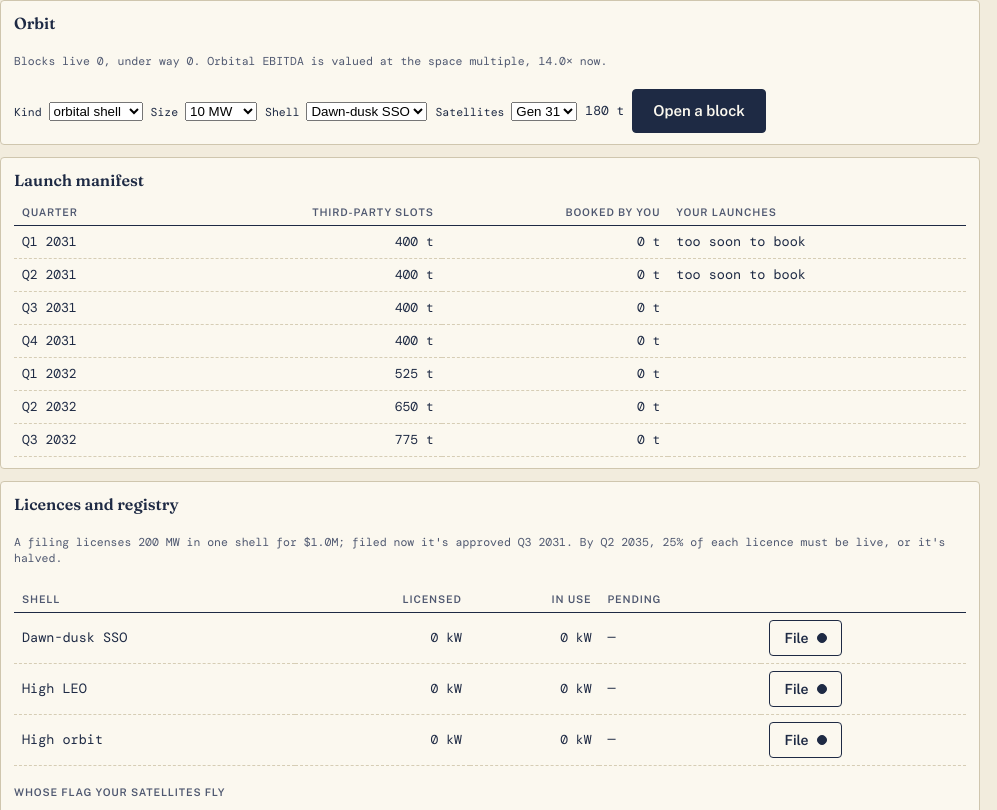
Test: launch slot clarity › Open a block shows the mass, and warns when no launch in the window can take it
Check: the text "180 t" is shown, box [585,102,624,120]
Select "100 MW" in the dropdown labelled "Size". click: {"x": 221, "y": 111}
box: [185,102,257,120]
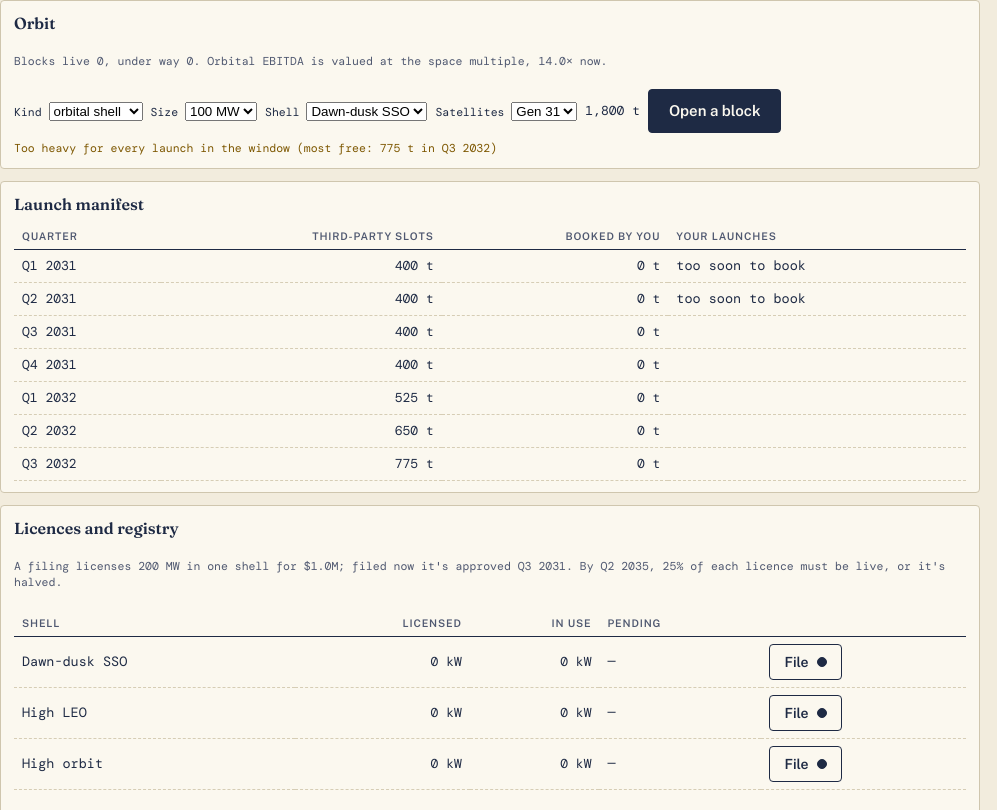
Check: the button "Open a block" is enabled, box [648,89,782,133]
Check: the text "1,800 t" is shown, box [585,102,640,120]
Check: the text "Too heavy for every launch in the window" is shown, box [14,141,497,156]
